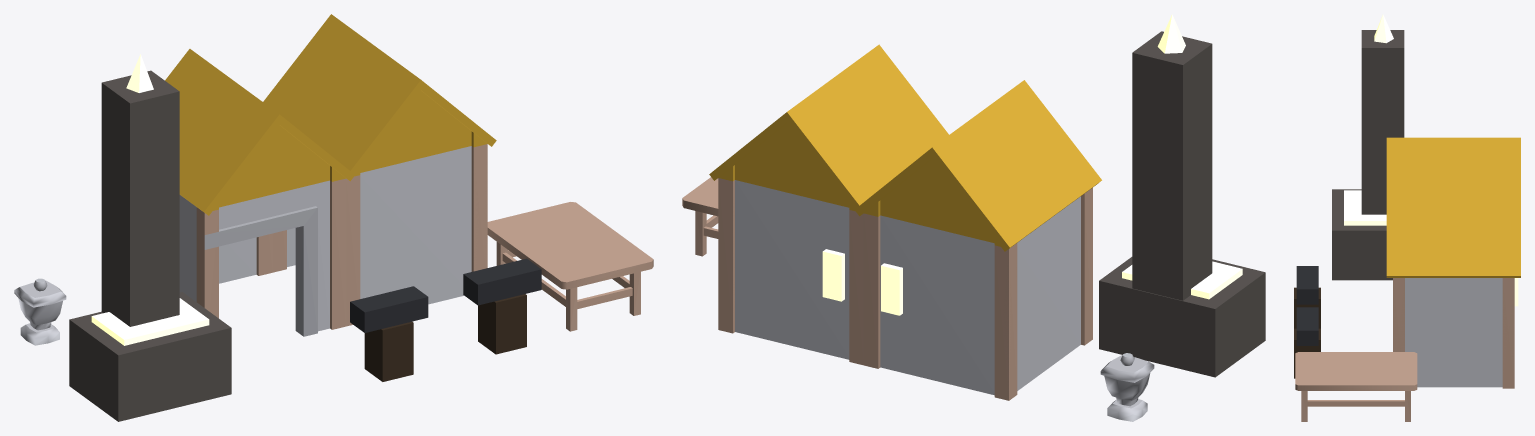
File: forge_l2.glb
3 renders of one model, left to right at view 1: azimuth 30°, elevation 25°; view 2: azimuth 150°, elevation 25°; view 3: azimuth 270°, elevation 25°, orthographic. The views are drawn at different scales.
Parts seen in each view (by area): view 1: forge_l2; view 2: forge_l2; view 3: forge_l2.
Part boxes in pixels (x1,y1,x2,y2): forge_l2: (14, 14, 653, 421); forge_l2: (682, 14, 1265, 421); forge_l2: (1294, 14, 1520, 421).
Size of the model in its own units: 6.89 by 4.23 by 3.53.
